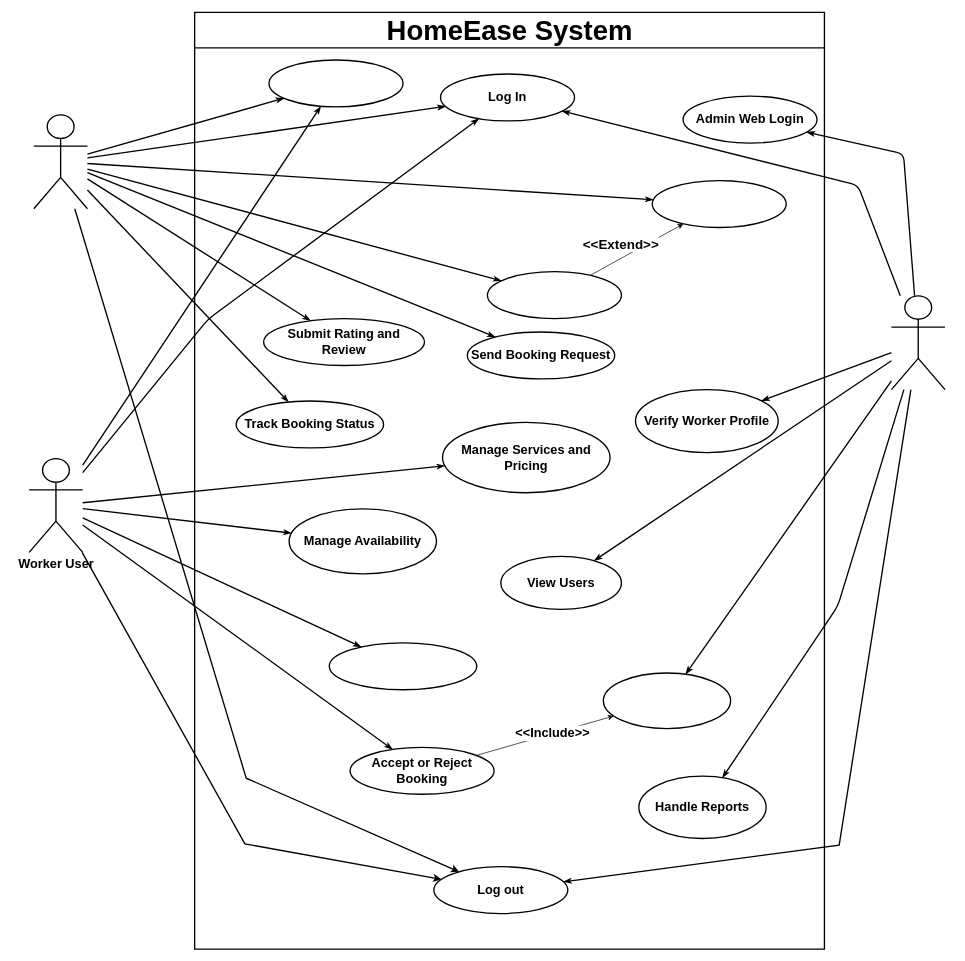
The diagram is 965 pixels wide and 961 high, and some of its shapes have lost their labels. Each missing label, with the centre of its shape:
"Admin User" goes at point 917,342.
"Create Worker Profile" goes at point 402,666.
"Household User" goes at point 60,161.
"Register / Sign Up" goes at point 335,83.
"Search Workers" goes at point 554,295.
"View Bookings" goes at point 666,700.
"View Worker Profile" goes at point 719,204.
